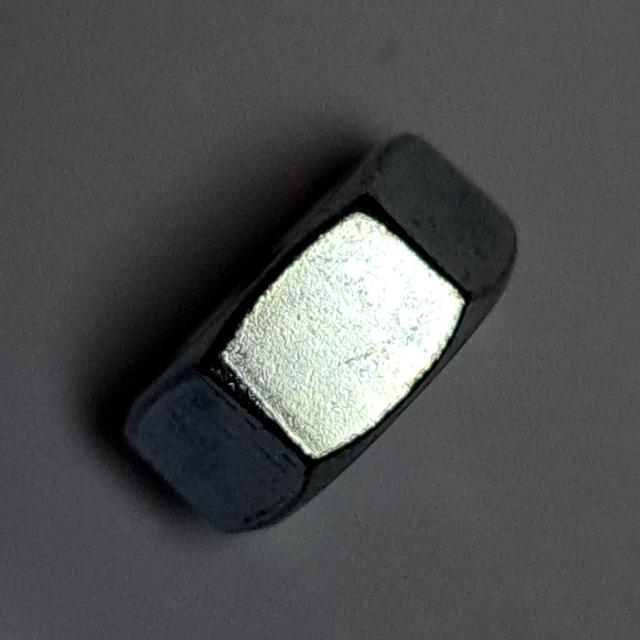Side_Excellent: (111, 119, 533, 550)
